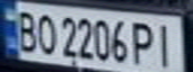0: (90, 15, 112, 63)
2: (57, 11, 78, 60), (75, 14, 93, 61)
6: (109, 16, 133, 65)
B: (12, 7, 42, 53)
I: (151, 19, 181, 69)
O: (33, 9, 60, 56)
P: (127, 18, 160, 66)
